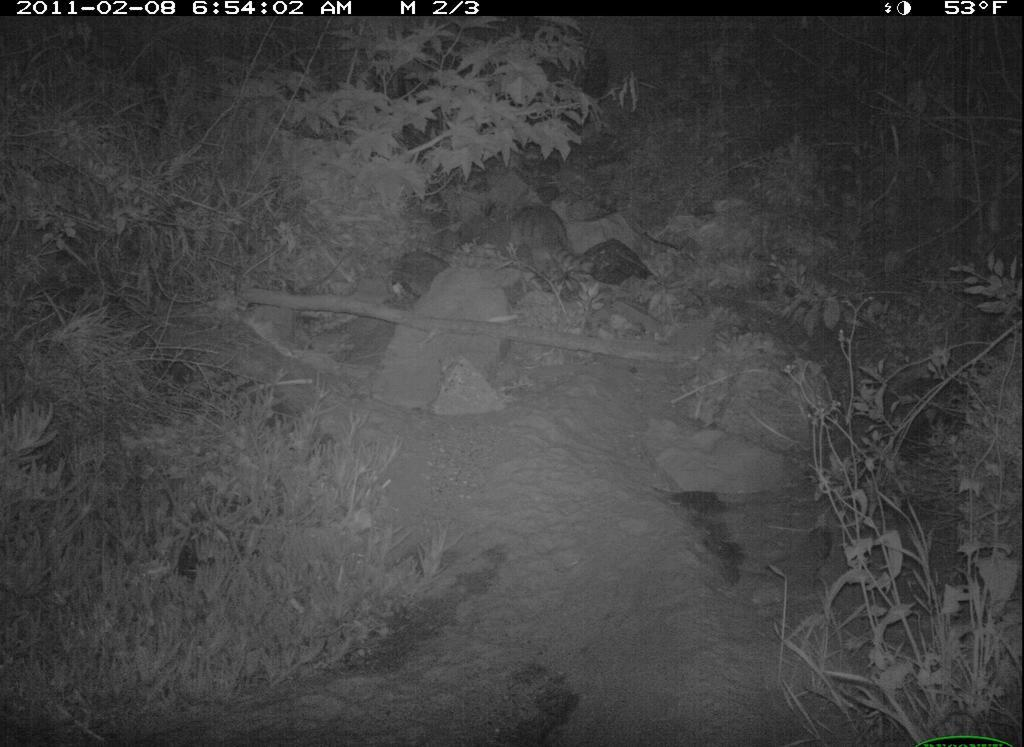raccoon: (500, 198, 606, 287)
